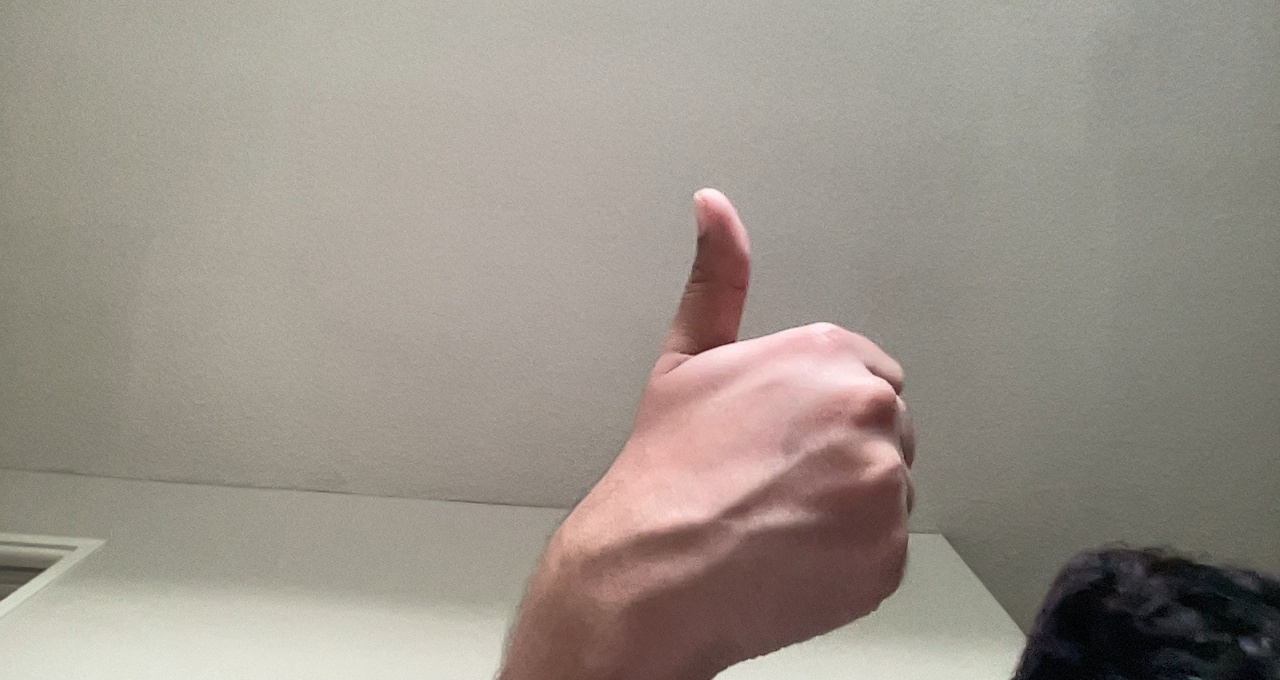thumbsup: (554, 180, 922, 664)
